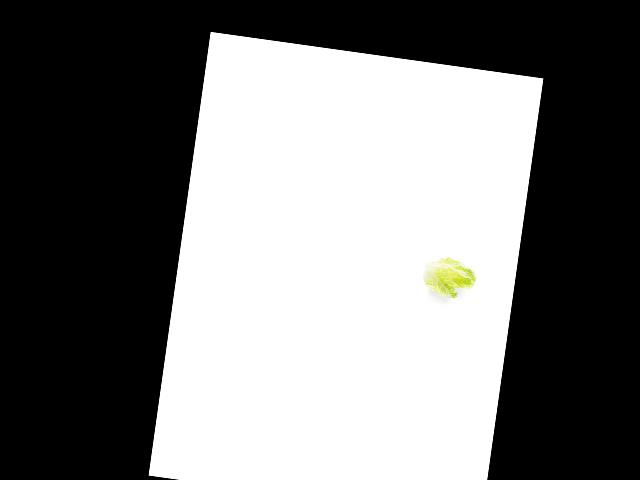lettuce: (415, 251, 481, 302)
